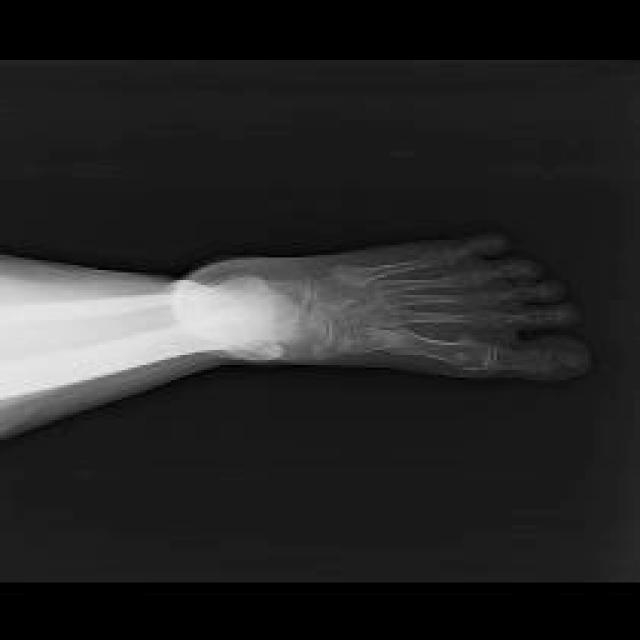normal: (0, 235, 592, 400)
